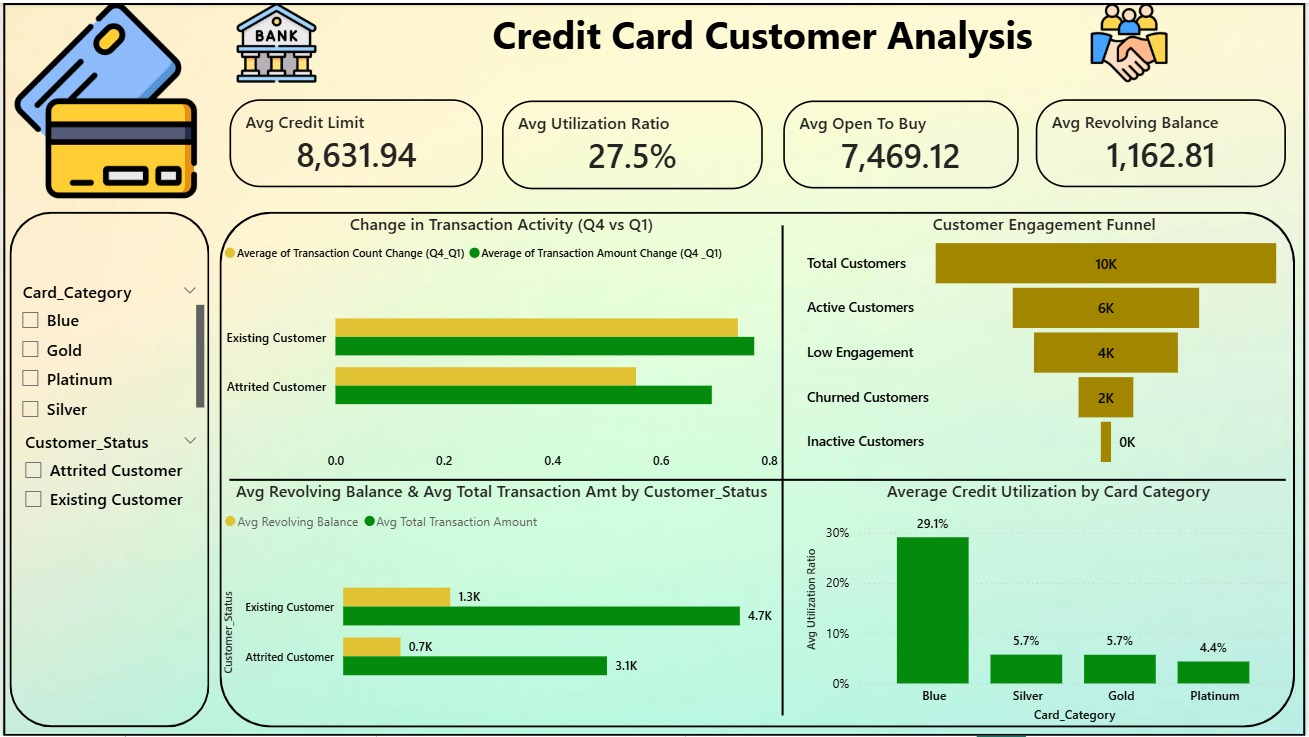

The page's visual inventory and layout, read from the dashboard file:
{"tool":"powerbi","page":{"name":"Usage, Transactions & Credit Behavior","canvas":[1280,720],"ordinal":1},"visuals":[{"type":"shape","box":[1.2,0,1278,719.5],"z":0},{"type":"textbox","box":[213.1,0,1066.3,78],"z":1000,"group":"g1"},{"type":"shape","box":[7.3,204.9,196.3,506.1],"z":1000},{"type":"shape","box":[213.1,204.6,1055.8,506.3],"z":2000},{"type":"card","title":"Avg Utilization Ratio","fields":{"Values":["meaures.Avg Utilization"]},"box":[490.4,96,256.3,87.5],"z":3000},{"type":"card","title":"Avg Revolving Balance","fields":{"Values":["meaures.Avg Revolving Balance"]},"box":[1014.6,93.9,245.7,86.5],"z":4000},{"type":"card","title":"Avg Credit Limit","fields":{"Values":["meaures.Avg Credit Limit"]},"box":[223.6,94.9,248.9,86.5],"z":5000},{"type":"card","title":"Avg Open To Buy","fields":{"Values":["meaures.Avg Open To Buy"]},"box":[766.8,96,231,86.5],"z":6000},{"type":"clusteredColumnChart","title":"Average Credit Utilization by Card Category","fields":{"Category":["Dim_Card.Card_Category"],"Y":["meaures. Avg Utilization Ratio"]},"box":[784.7,467.2,484.1,243.6],"z":7000},{"type":"clusteredBarChart","title":"Avg Revolving Balance & Avg Total Transaction Amt by Customer_Status","fields":{"Category":["Dim_Churn.Customer_Status"],"Y":["meaures.Avg Revolving Balance","meaures.Avg Total Transaction Amount"]},"box":[213.1,467.2,553.7,243.6],"z":8000},{"type":"slicer","fields":{"Values":["Dim_Card.Card_Category"]},"box":[7.4,267.9,196.2,146.6],"z":9000},{"type":"slicer","fields":{"Values":["Dim_Churn.Customer_Status"]},"box":[9.5,414.5,194.1,131.8],"z":10000},{"type":"clusteredBarChart","title":"Change in Transaction Activity (Q4 vs Q1)","fields":{"Category":["Dim_Churn.Customer_Status"],"Y":["Avg(Fact_Transaction.Transaction Count Change (Q4_Q1))","Avg(Fact_Transaction.Transaction Amount Change (Q4 _Q1))"]},"box":[213.1,204.6,553.7,262.6],"z":11000},{"type":"funnel","title":"Customer Engagement Funnel","fields":{"Y":["Table 2.Customer Funnel Value"],"Category":["Customer Funnel.Stage"]},"box":[784.7,204.6,475.7,255.2],"z":12000},{"type":"group","id":"g1","title":"Group 1","box":[213.1,0,1066.3,78],"z":13000},{"type":"image","box":[213.1,0,111.8,78],"z":14000},{"type":"image","box":[0,0,203.6,192],"z":15000},{"type":"image","box":[1054.7,0,102.3,78],"z":16000},{"type":"shape","box":[223.6,452.5,1036.8,30.6],"z":17000},{"type":"shape","box":[746.7,218.3,38,480.9],"z":18000}]}

Visuals, with their boxes in screenshot pixels (x1, y1, x2, y2), scaled from the page's 1280x720 canvas onto the 1309x737 screenshot:
shape: 1 0 1308 736
textbox: 218 0 1308 80
shape: 7 210 208 728
shape: 218 209 1298 728
"Avg Utilization Ratio" card: 502 98 764 188
"Avg Revolving Balance" card: 1038 96 1289 185
"Avg Credit Limit" card: 229 97 483 186
"Avg Open To Buy" card: 784 98 1020 187
"Average Credit Utilization by Card Category" clusteredColumnChart: 802 478 1298 728
"Avg Revolving Balance & Avg Total Transaction Amt by Customer_Status" clusteredBarChart: 218 478 784 728
slicer - Dim_Card.Card_Category: 8 274 208 424
slicer - Dim_Churn.Customer_Status: 10 424 208 559
"Change in Transaction Activity (Q4 vs Q1)" clusteredBarChart: 218 209 784 478
"Customer Engagement Funnel" funnel: 802 209 1289 471
"Group 1" group: 218 0 1308 80
image: 218 0 332 80
image: 0 0 208 197
image: 1079 0 1183 80
shape: 229 463 1289 495
shape: 764 223 802 716
